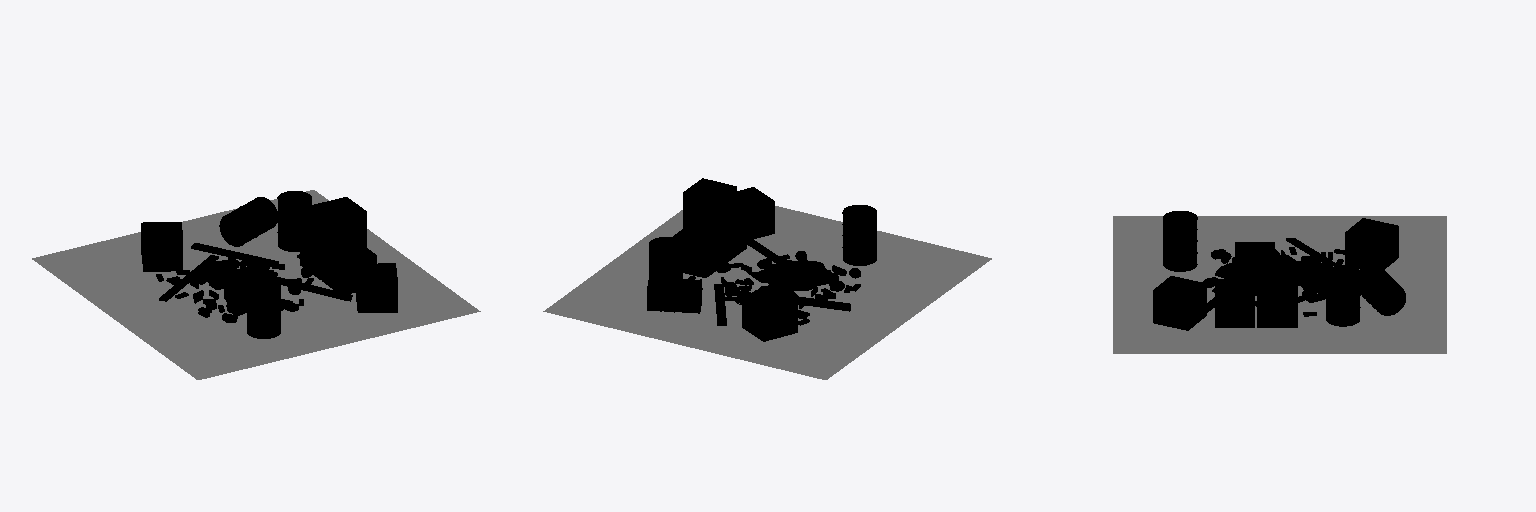
File: Item01.obj
3 renders of one model, left to right at view 1: azimuth 30°, elevation 25°; view 2: azimuth 150°, elevation 25°; view 3: azimuth 270°, elevation 25°, orthographic.
Parts seen in each view (by area): view 1: pPlane1, pCube49, pCube51, pCube50, pCylinder2, pCylinder1, boxxe:pCylinder1, pCube48, pCube2, boxwood:pCube1, pCube4, pCube47; view 2: pPlane1, pCube49, pCube51, pCylinder2, pCylinder1, pCube2, boxwood:pCube1, pCube50, boxxe:pCylinder1, pCube48; view 3: pPlane1, pCube50, pCube51, pCube49, pCylinder2, boxxe:pCylinder1, boxwood:pCube1, pCylinder1, pCube48, pCube2.
Boxes of the visible parts, x1,y1,x2,y2 form: pPlane1: [32, 190, 480, 379]; pCube49: [312, 197, 366, 255]; pCube51: [141, 222, 182, 271]; pCube50: [356, 263, 397, 312]; pCylinder2: [247, 278, 280, 338]; pCylinder1: [219, 197, 277, 246]; boxxe:pCylinder1: [277, 191, 311, 251]; pCube48: [322, 248, 376, 293]; pCube2: [224, 268, 273, 312]; boxwood:pCube1: [300, 230, 321, 279]; pCube4: [259, 273, 352, 301]; pCube47: [159, 255, 218, 301]; pPlane1: [543, 206, 991, 379]; pCube49: [683, 178, 736, 236]; pCube51: [742, 286, 797, 341]; pCylinder2: [842, 205, 876, 265]; pCylinder1: [647, 277, 702, 313]; pCube2: [747, 260, 838, 290]; boxwood:pCube1: [672, 229, 725, 277]; pCube50: [737, 187, 774, 239]; boxxe:pCylinder1: [649, 237, 682, 278]; pCube48: [726, 213, 746, 262]; pPlane1: [1113, 216, 1446, 353]; pCube50: [1153, 276, 1206, 330]; pCube51: [1345, 218, 1398, 269]; pCube49: [1235, 242, 1274, 295]; pCylinder2: [1163, 211, 1197, 271]; boxxe:pCylinder1: [1326, 265, 1360, 326]; boxwood:pCube1: [1257, 279, 1297, 327]; pCylinder1: [1360, 264, 1405, 315]; pCube48: [1215, 279, 1254, 327]; pCube2: [1215, 255, 1303, 278].
Size of the model in its own units: 34.3 by 9.23 by 35.